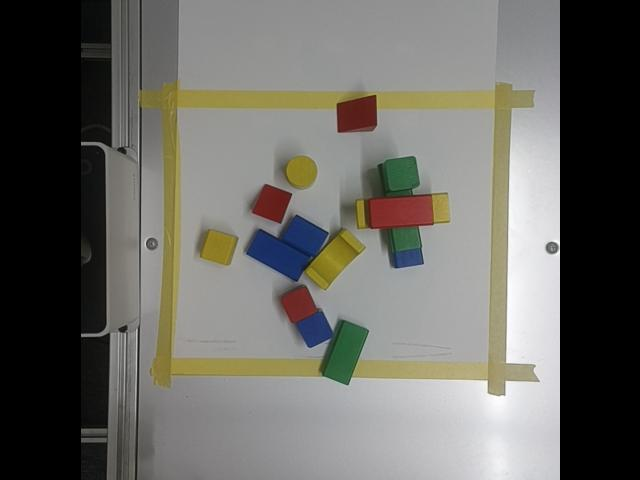blue_cube: (296, 311, 332, 348)
blue_rect: (246, 229, 308, 281)
cylinder: (286, 156, 316, 186)
green_cube: (385, 157, 418, 191)
green_rect: (321, 320, 367, 386)
half_cylinder: (282, 215, 326, 257)
red_cube: (280, 287, 316, 323)
red_rect: (369, 195, 432, 228)
triangle: (251, 184, 290, 223), (336, 96, 377, 132)
yellow_archrect: (304, 229, 365, 291)
yellow_cube: (199, 229, 237, 266)
